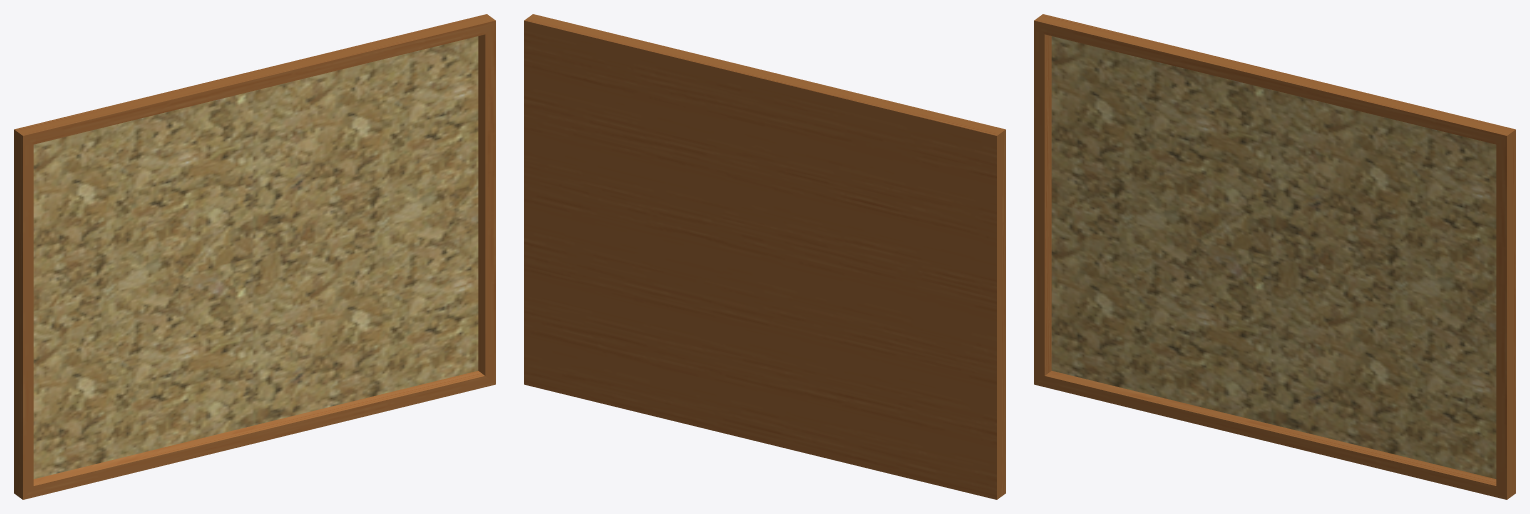
The model's file is Corkboard_A.FBX.
The picture shows the model from 3 angles, left to right: view 1: azimuth 30°, elevation 25°; view 2: azimuth 150°, elevation 25°; view 3: azimuth 330°, elevation 25°; orthographic projection.
Parts seen in each view (by area): view 1: Corkboard; view 2: Corkboard; view 3: Corkboard.
Boxes of the visible parts, box(x1,y1,x2,y2) form: Corkboard: box(14, 14, 495, 499); Corkboard: box(524, 14, 1005, 499); Corkboard: box(1034, 14, 1515, 499).
Size of the model in its own units: 143 by 105 by 4.7.
